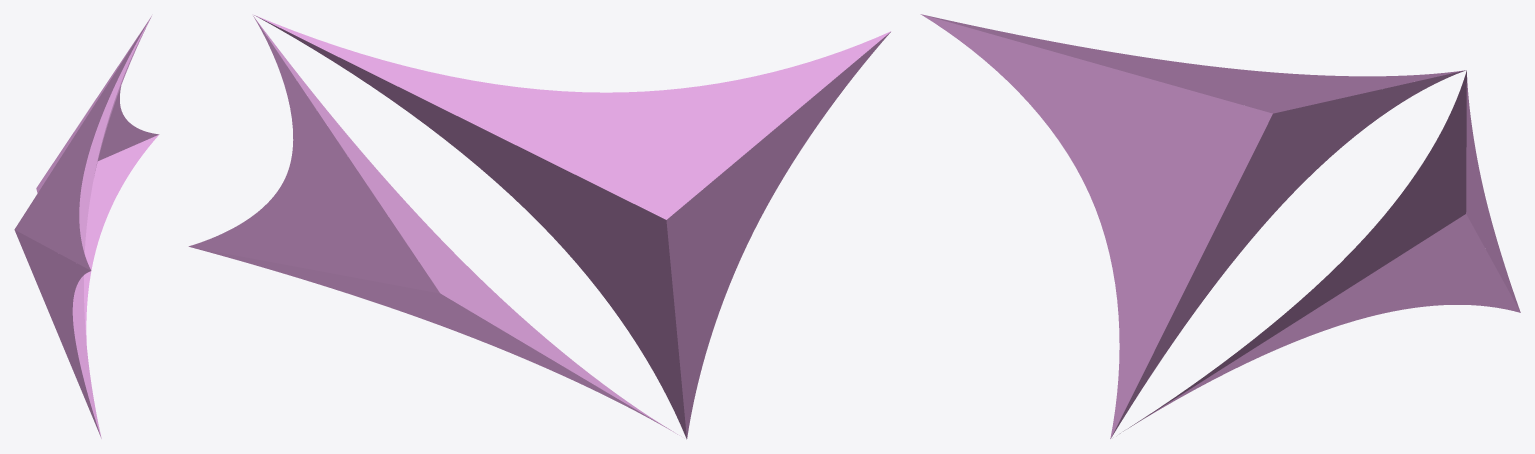
The model's file is TYPE3-4.glb.
3 views of the same model, side by side, from view 1: azimuth 30°, elevation 25°; view 2: azimuth 150°, elevation 25°; view 3: azimuth 270°, elevation 25° (orthographic). The views are drawn at different scales.
Parts seen in each view (by area): view 1: TYPE3-4 (×6); view 2: TYPE3-4 (×6); view 3: TYPE3-4 (×6).
Part boxes in pixels (<box>): TYPE3-4 (×6): <box>14,16,159,438</box>; TYPE3-4 (×6): <box>188,14,891,439</box>; TYPE3-4 (×6): <box>921,14,1520,438</box>.
Size of the model in its own units: 4.32 by 5 by 5.47.
